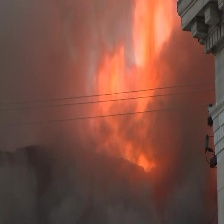smoke: (1, 1, 139, 220), (144, 36, 219, 224)
